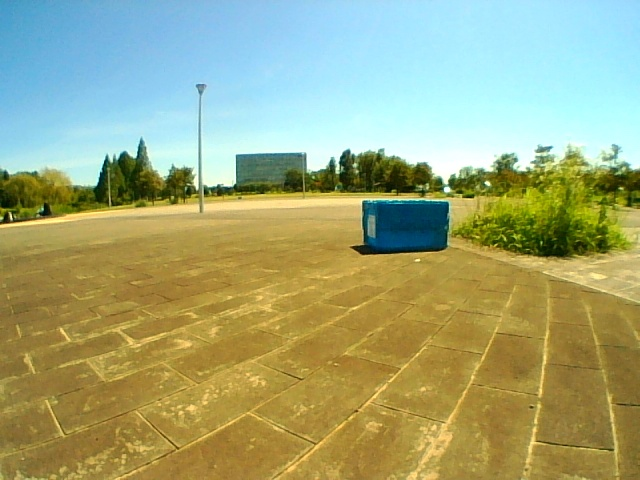blue_box: (363, 201, 446, 249)
tag: (368, 216, 374, 236)
